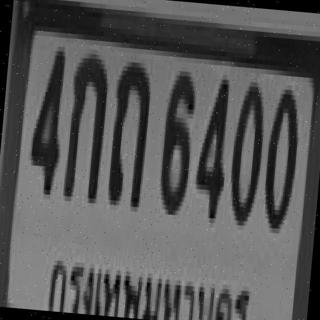A01: (61, 48, 109, 198)
A22: (105, 56, 151, 207)
N00: (226, 76, 266, 222), (260, 84, 300, 229)
N04: (191, 73, 232, 219), (27, 40, 66, 190)
N06: (157, 65, 196, 211)
P04: (41, 250, 259, 320)
